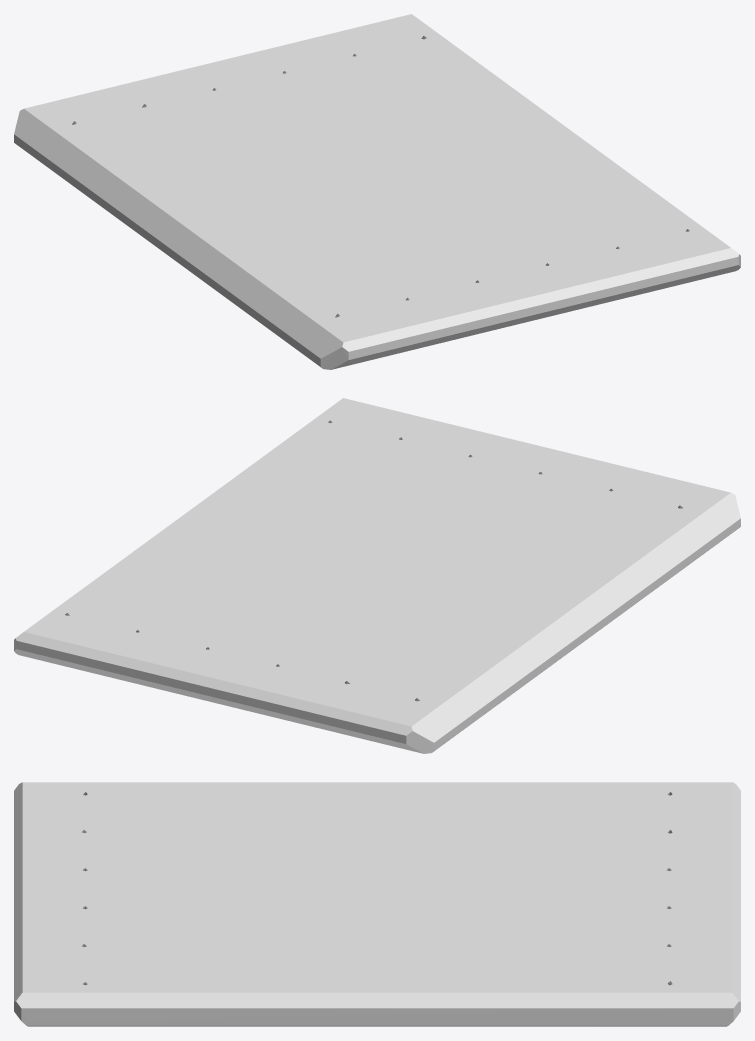
File: SM_pallet_02.fbx
3 renders of one model, top to bottom at view 1: azimuth 30°, elevation 25°; view 2: azimuth 150°, elevation 25°; view 3: azimuth 270°, elevation 25°, orthographic. The views are drawn at different scales.
Visible parts, largest first — view 1: SM_pallet_02_ConvexHulls; view 2: SM_pallet_02_ConvexHulls; view 3: SM_pallet_02_ConvexHulls.
Boxes of the visible parts, x1,y1,x2,y2 form: SM_pallet_02_ConvexHulls: [14, 14, 740, 369]; SM_pallet_02_ConvexHulls: [14, 398, 740, 753]; SM_pallet_02_ConvexHulls: [14, 782, 740, 1026].
Size of the model in its own units: 256 by 351 by 17.55.
